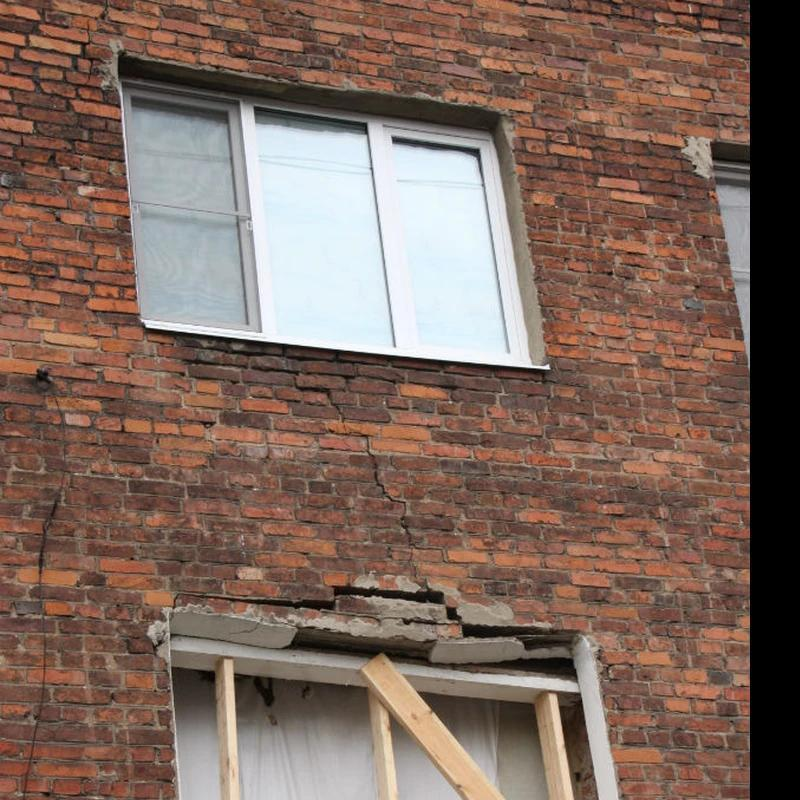crack: (359, 432, 433, 592), (172, 593, 333, 611), (330, 585, 445, 604), (462, 623, 519, 640), (326, 388, 346, 423), (402, 617, 458, 627), (445, 606, 466, 624), (82, 58, 93, 91), (86, 19, 91, 46)
